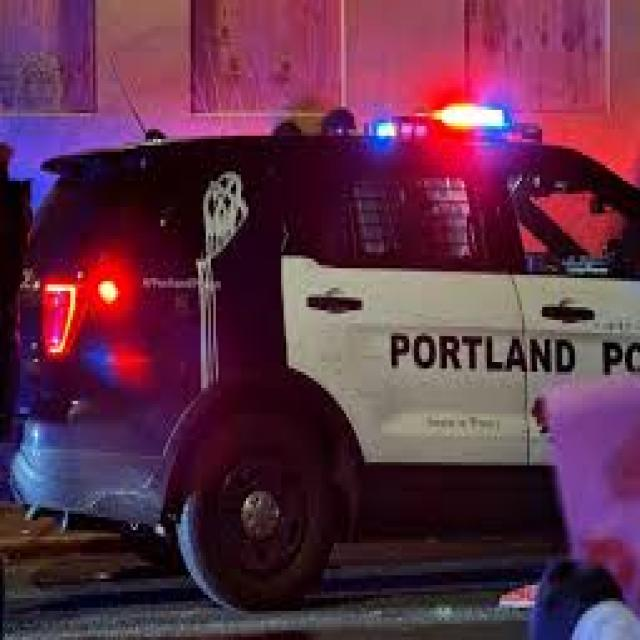cop: (8, 102, 640, 614)
